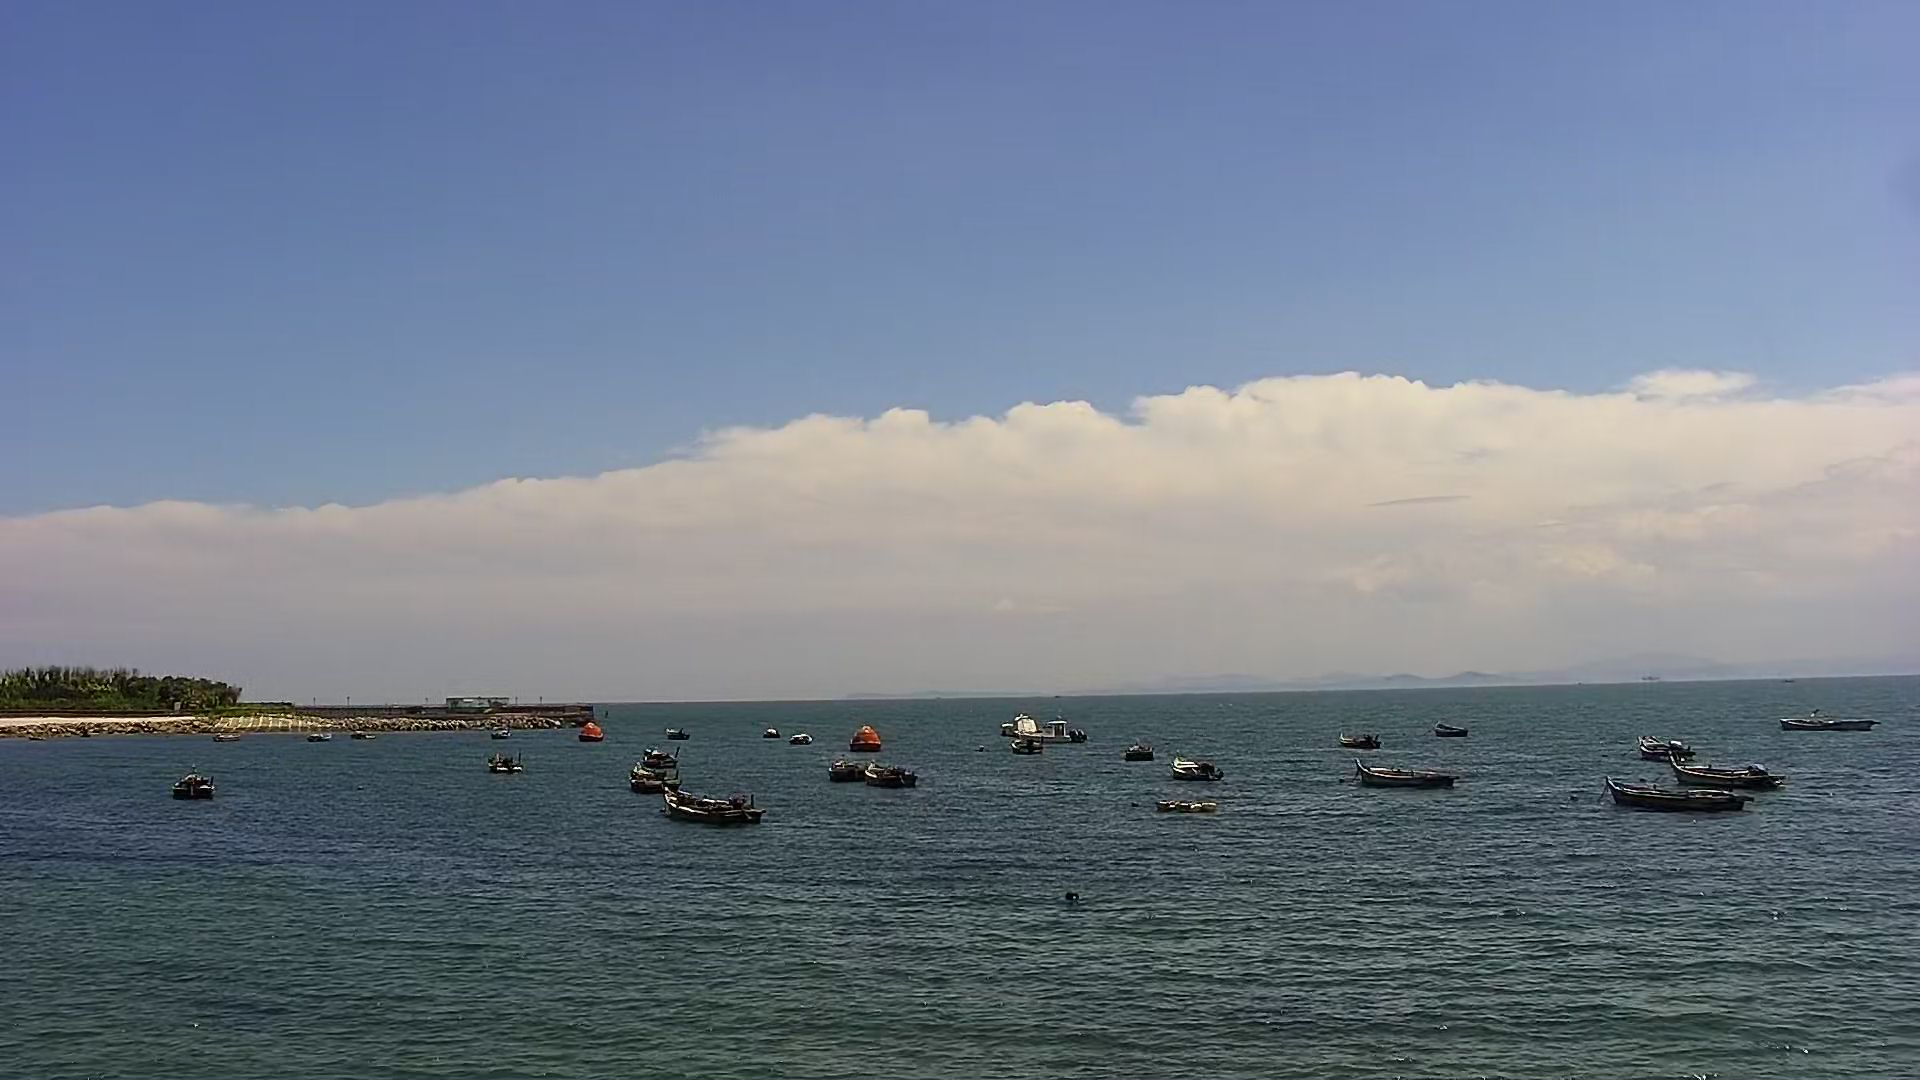ball: (1054, 884, 1092, 909)
boat: (1582, 766, 1772, 822), (654, 777, 783, 837), (1663, 742, 1795, 791), (1345, 753, 1474, 796), (981, 695, 1100, 738), (1764, 705, 1891, 735), (1626, 717, 1695, 760), (1168, 746, 1238, 783), (1320, 721, 1404, 752), (473, 749, 542, 785), (1138, 793, 1240, 816), (844, 709, 891, 760), (622, 756, 684, 793), (818, 744, 870, 785), (164, 770, 228, 803), (858, 760, 926, 791), (1429, 705, 1474, 749), (1001, 735, 1055, 765), (655, 717, 702, 749), (1117, 731, 1153, 771), (299, 725, 339, 752), (580, 717, 608, 750), (761, 709, 785, 744), (208, 728, 251, 745), (351, 721, 376, 742)
